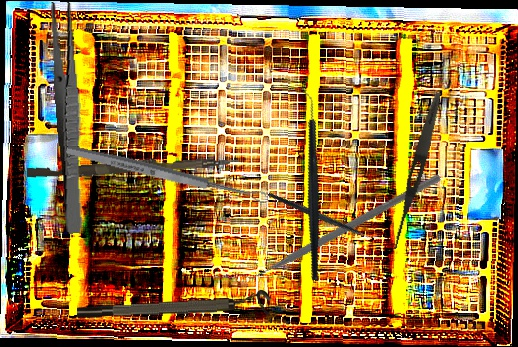Chopper: (230, 108, 444, 342), (241, 86, 378, 282), (267, 160, 381, 271)
Dressing Forceps: (48, 0, 90, 235), (389, 90, 445, 252)
Fixation Ring: (76, 289, 271, 322)
Pusher: (26, 149, 240, 184)
Surgical Spoon: (65, 142, 267, 206)
